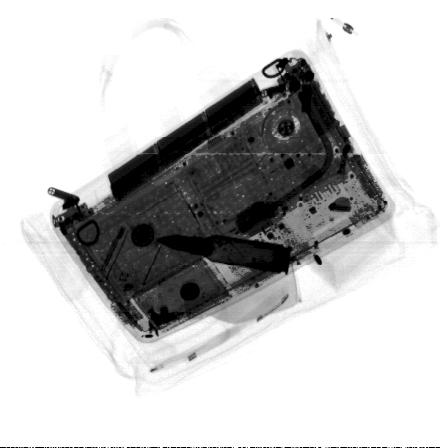Bullet: (153, 234, 293, 276)
